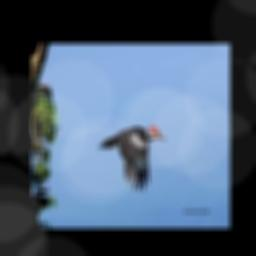Woodpecker: (97, 124, 165, 192)
